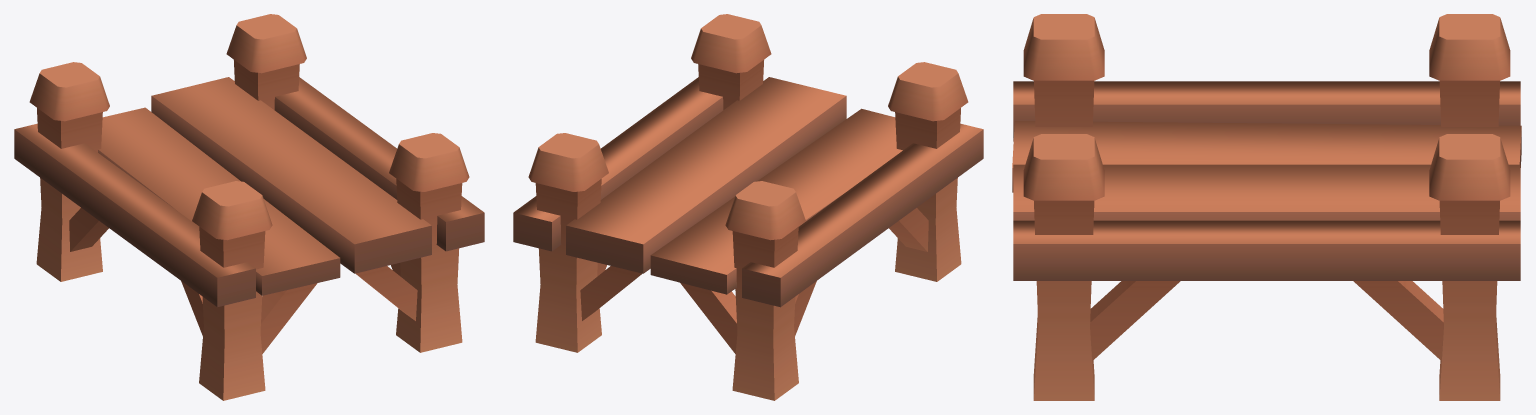
Rendered from kenney-pirate-structure-platform-dock-small.glb.
3 renders of one model, left to right at view 1: azimuth 30°, elevation 25°; view 2: azimuth 150°, elevation 25°; view 3: azimuth 270°, elevation 25°, orthographic. The views are drawn at different scales.
Parts seen in each view (by area): view 1: structure-platform-dock-small; view 2: structure-platform-dock-small; view 3: structure-platform-dock-small.
Boxes of the visible parts, bbox=[...] form: structure-platform-dock-small: bbox=[14, 14, 484, 400]; structure-platform-dock-small: bbox=[513, 14, 983, 400]; structure-platform-dock-small: bbox=[1012, 14, 1521, 400].
Size of the model in its own units: 1.9 by 1.31 by 2.51.
1 material, 1 textured.
